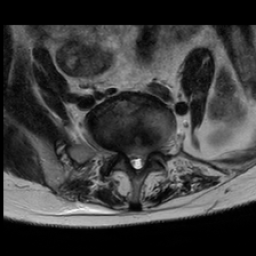CCS_normal: (133, 138, 140, 177)
LFS_stenosis: (148, 135, 157, 159)
LLS_normal: (140, 138, 148, 171)
RFS_severe_stenosis: (118, 139, 126, 164)
RLS_normal: (126, 140, 133, 170)
